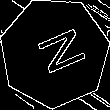N_SW: (24, 25, 85, 81)
